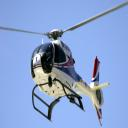helicopter: (3, 1, 128, 126)
